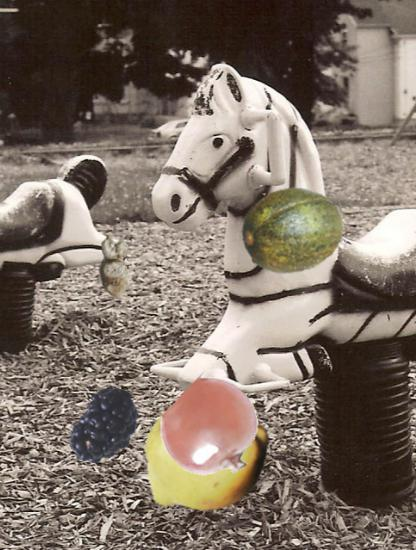Ginger: (83, 233, 148, 298)
Melon: (241, 178, 343, 280)
Mulberry: (64, 386, 145, 467)
Quince: (135, 383, 273, 521)
Redcurrant: (163, 381, 264, 482)
